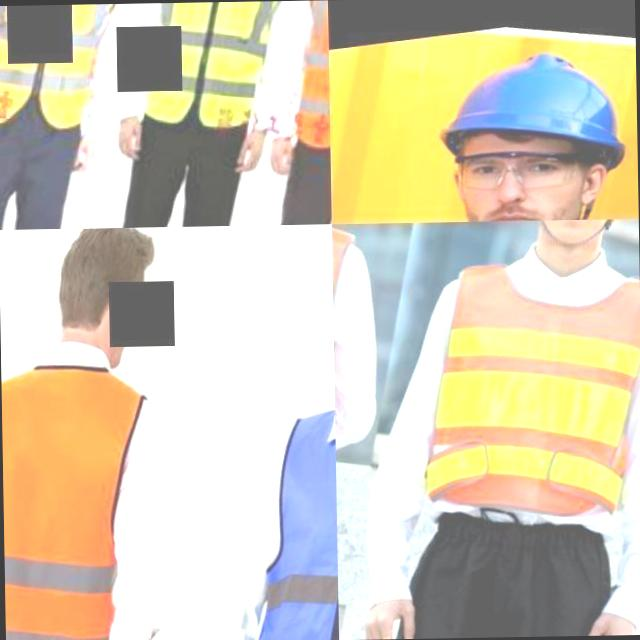vest: (402, 230, 640, 544), (0, 345, 157, 640), (224, 383, 338, 640), (140, 1, 294, 132), (0, 3, 129, 132), (286, 0, 330, 167)
